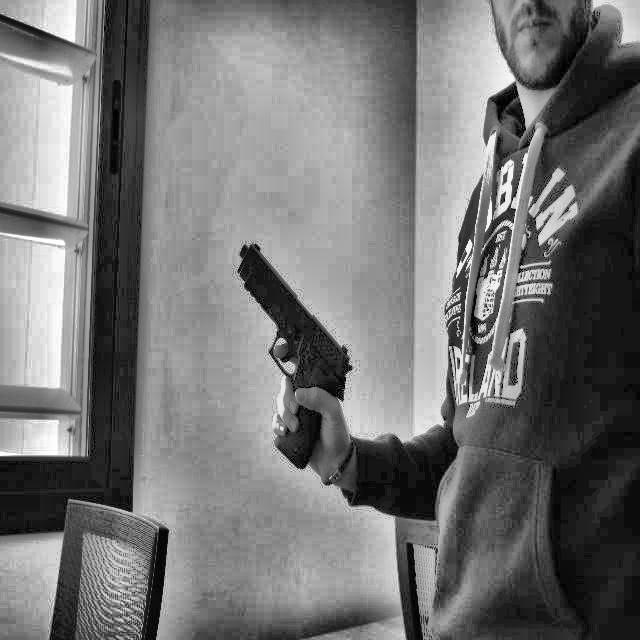pistol: (219, 237, 379, 484)
